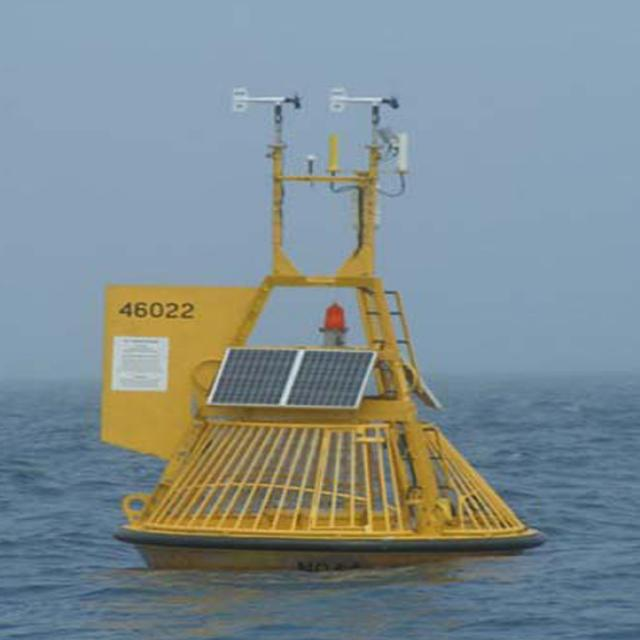buoy: (88, 76, 550, 569)
